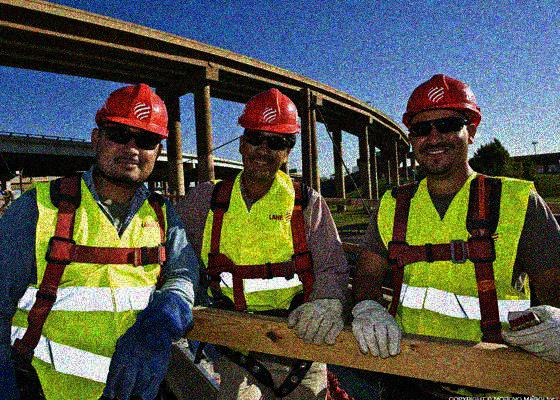helmet: (402, 73, 483, 175), (93, 81, 171, 186), (235, 87, 302, 182)
